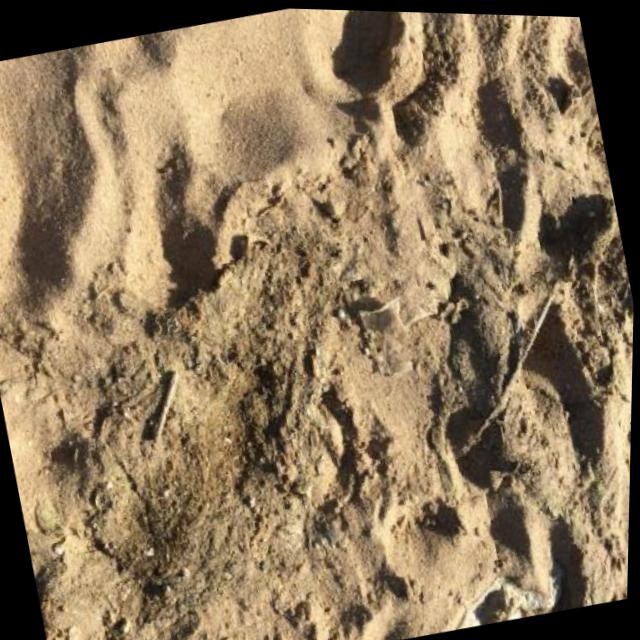plastic: (354, 295, 417, 387)
